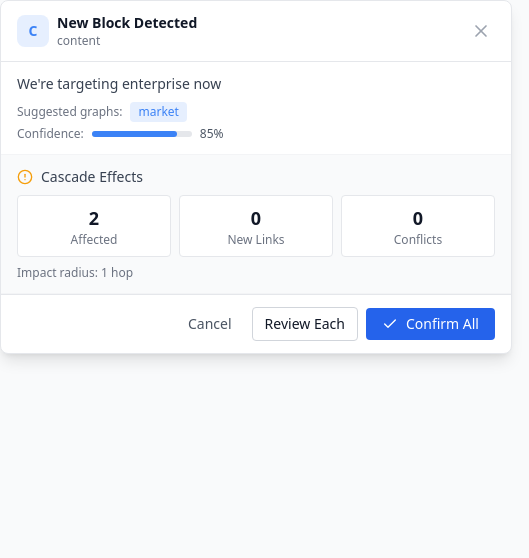
Scenario: GraphUpdateConfirmation › should enter review mode when Review Each is clicked
The image size is (529, 558).
Step 1. Click the button "Review Each" → (305, 324), box [252,307,358,341]
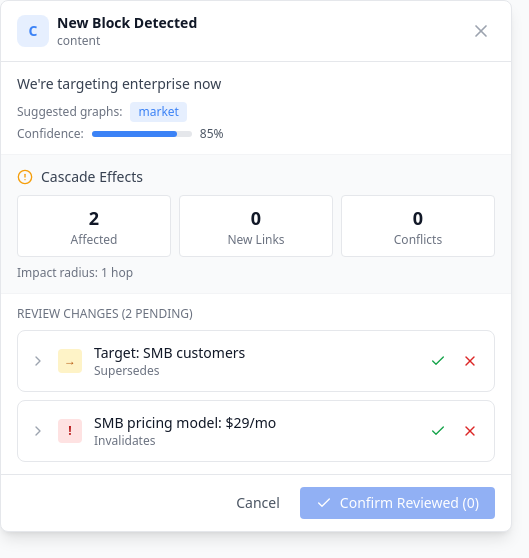
expect the text "Review Changes (2 pending)" is shown: met, box [17,306,193,322]
